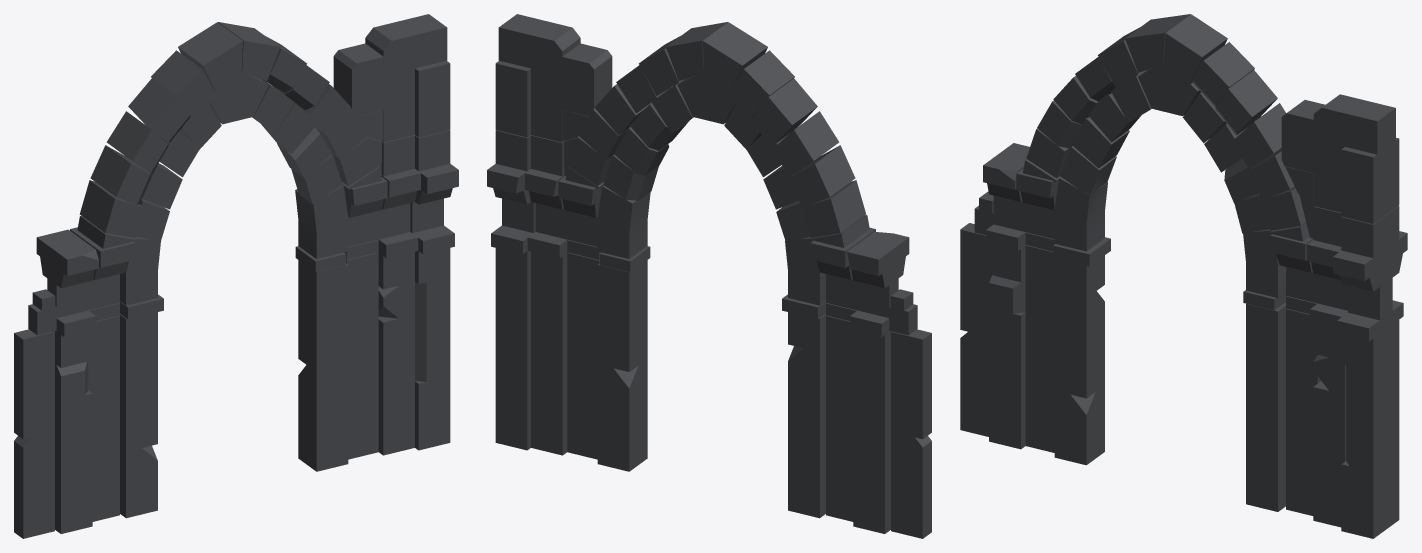
File: Archway.obj
The picture shows the model from 3 angles, left to right: view 1: azimuth 30°, elevation 25°; view 2: azimuth 150°, elevation 25°; view 3: azimuth 330°, elevation 25°; orthographic projection.
Parts seen in each view (by area): view 1: Archway1; view 2: Archway1; view 3: Archway1.
Part boxes in pixels (x1,y1,x2,y2): Archway1: (14, 14, 458, 538); Archway1: (487, 14, 931, 538); Archway1: (960, 14, 1407, 538).
Size of the model in its own units: 1321 by 1362 by 233.
Materials: 1 (1 with a texture image).
